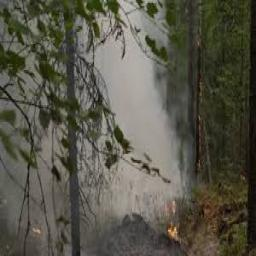Low smoke: (0, 0, 194, 212)
